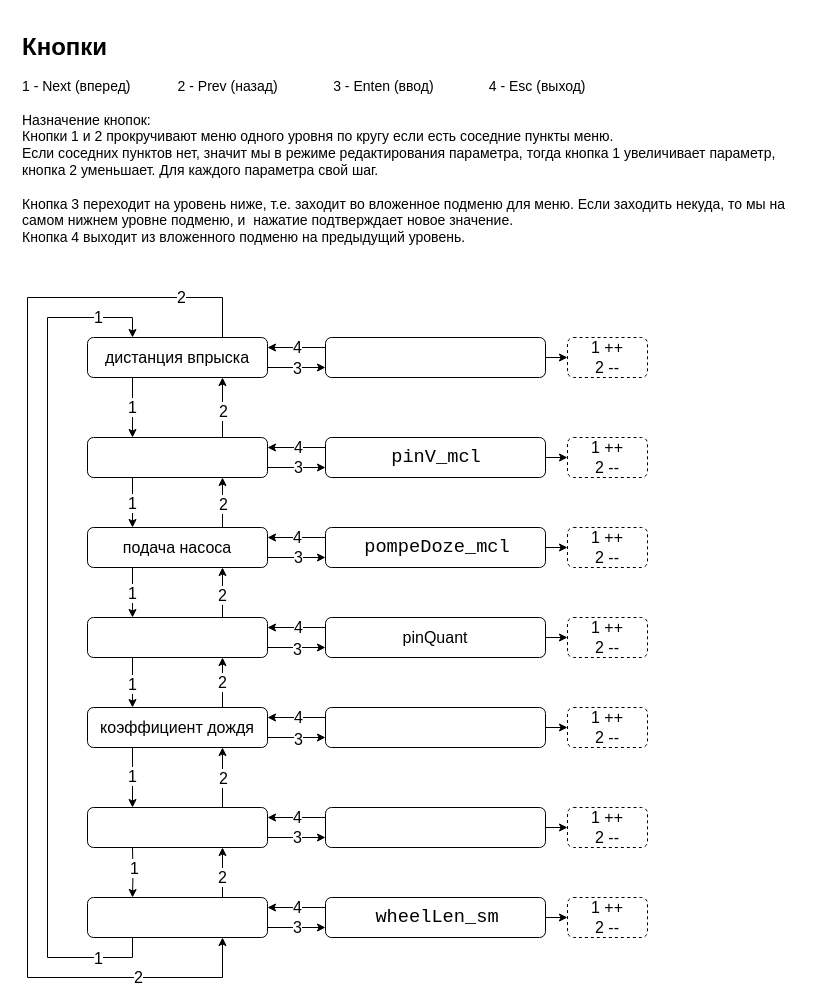
This 834x1003 diagram has some shape labels left out. The box of each missing label's shape, as (x1, y1, x2, y2) in pixels:
addTimeInjection_ms: (324, 806, 546, 848)
injectionDistance_km: (324, 336, 546, 378)
rainMullFactor: (324, 706, 546, 748)
длина цепи: (86, 616, 268, 658)
доза на пин: (86, 436, 268, 478)
запас времени для перекрытия впрыска: (86, 806, 268, 848)
окружность колеса: (86, 896, 268, 938)
